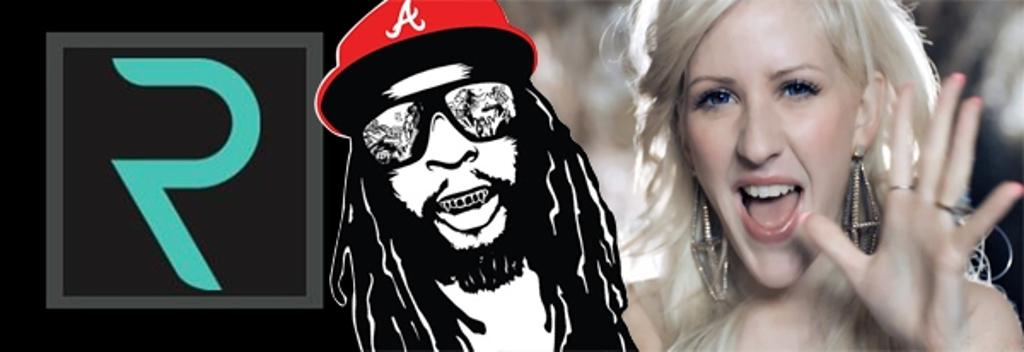face: (692, 16, 834, 292)
